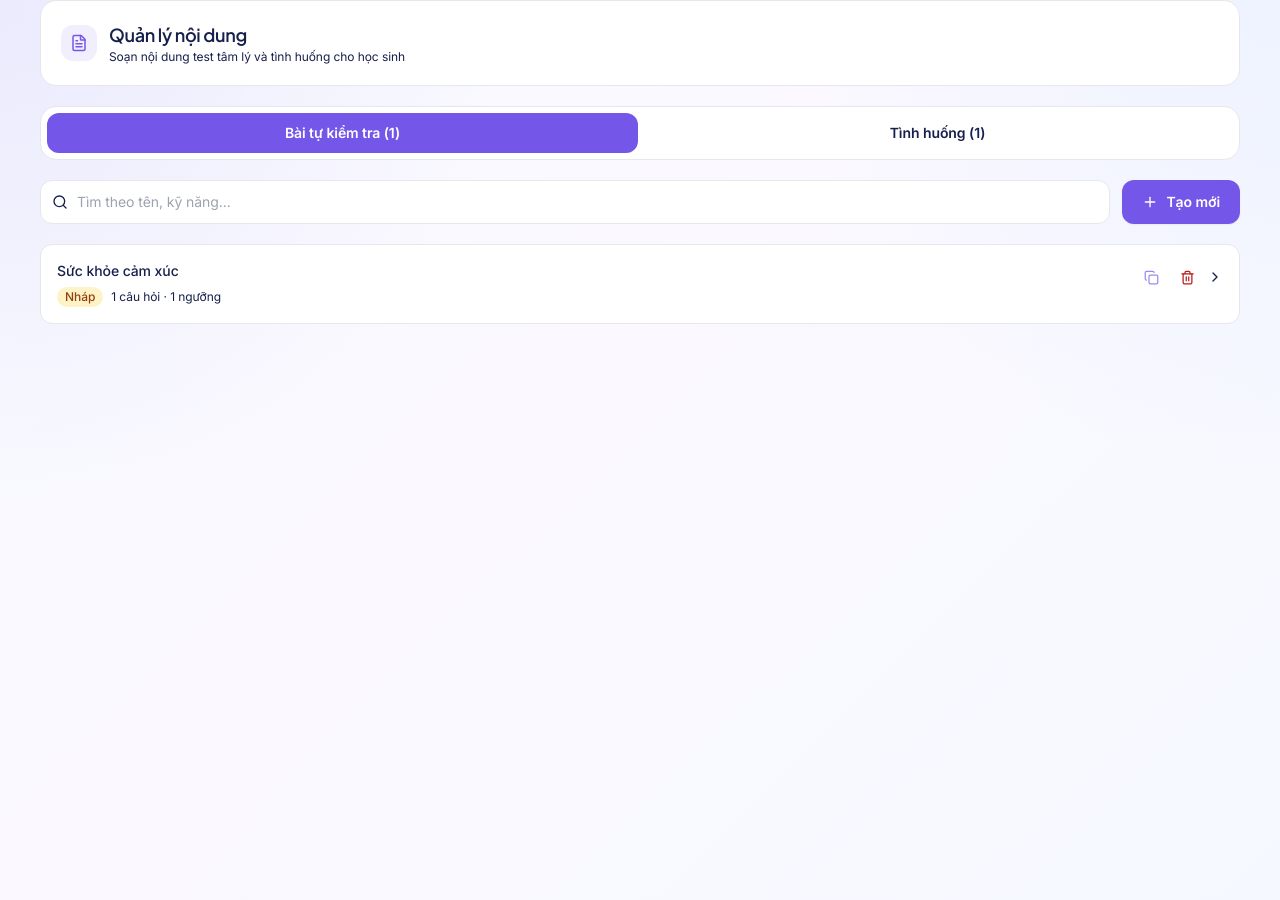
Test: admin content management UI › surfaces backend publish validation detail instead of generic failure copy
The width and height of the screenshot is (1280, 900).
Expected: the heading "Quản lý nội dung" is shown, x1=109 y1=23 x2=247 y2=46
Click the button "Sức khỏe cảm xúc Nháp 1 câu hỏi · 1 ngưỡng".
click(118, 270)  # box x1=40 y1=244 x2=1240 y2=324
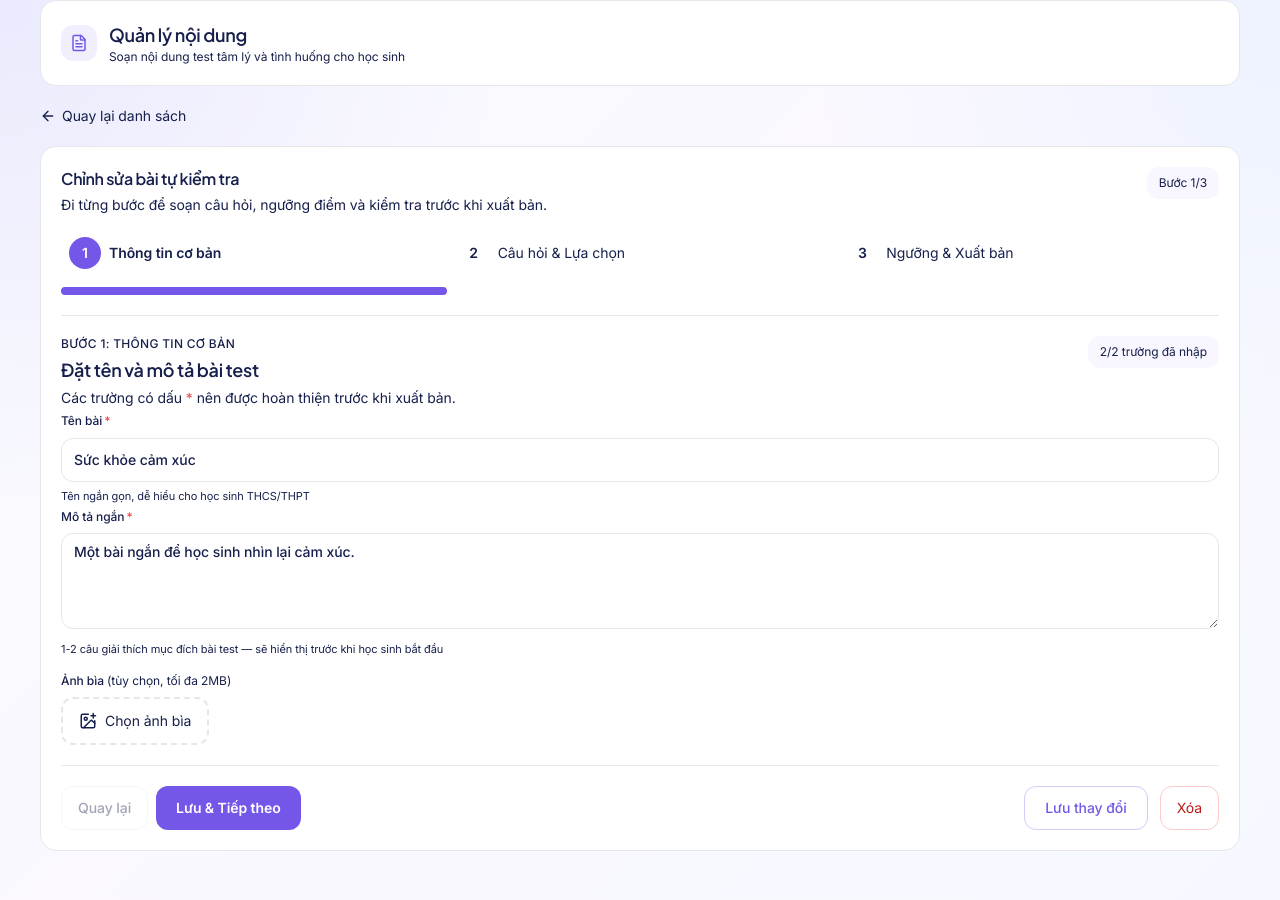
Click the button "3 Ngưỡng & Xuất bản".
click(950, 253)  # box x1=838 y1=231 x2=1219 y2=275
(page scrolled)
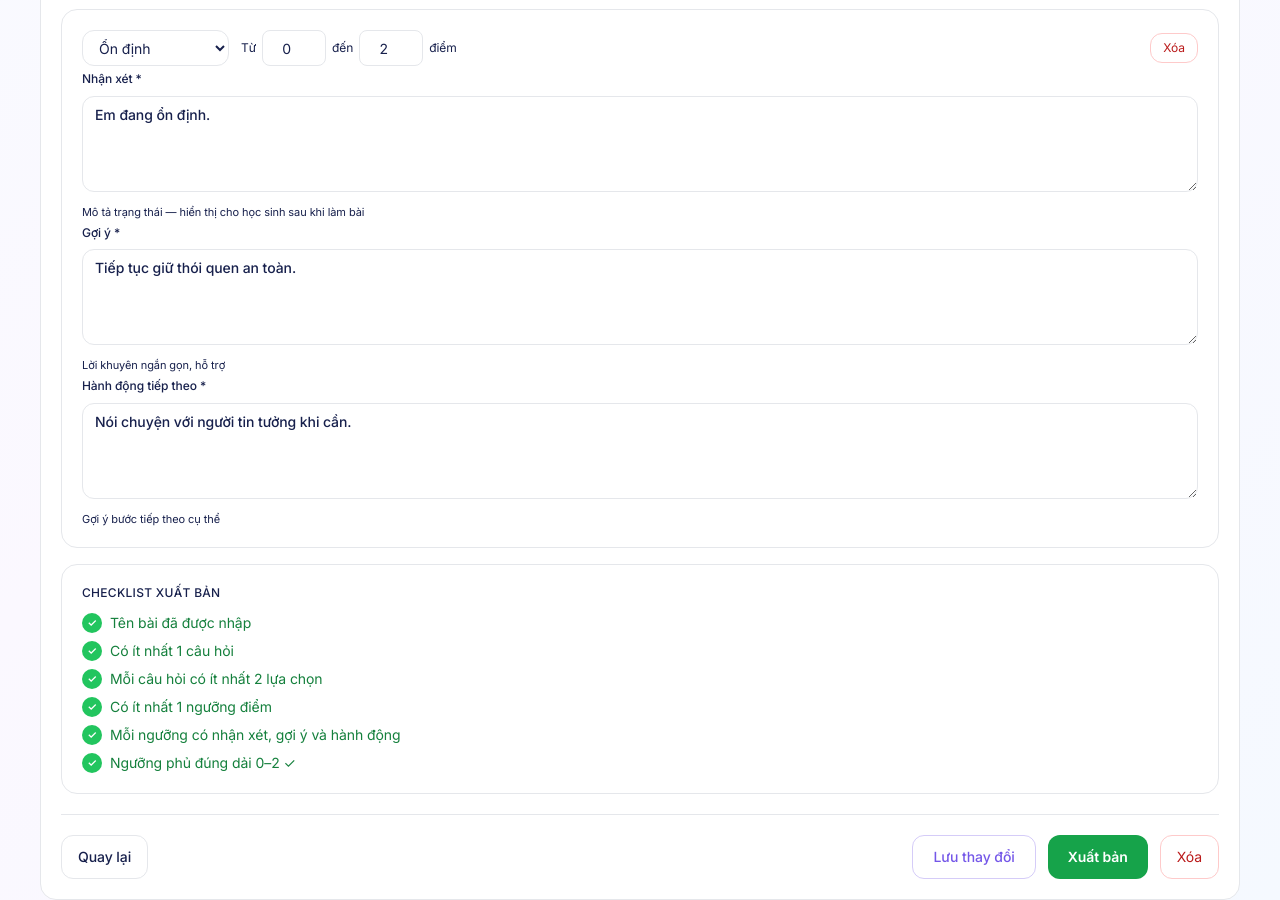
Click the button "Xuất bản".
click(1098, 857)  # box x1=1048 y1=835 x2=1148 y2=879
(page scrolled)
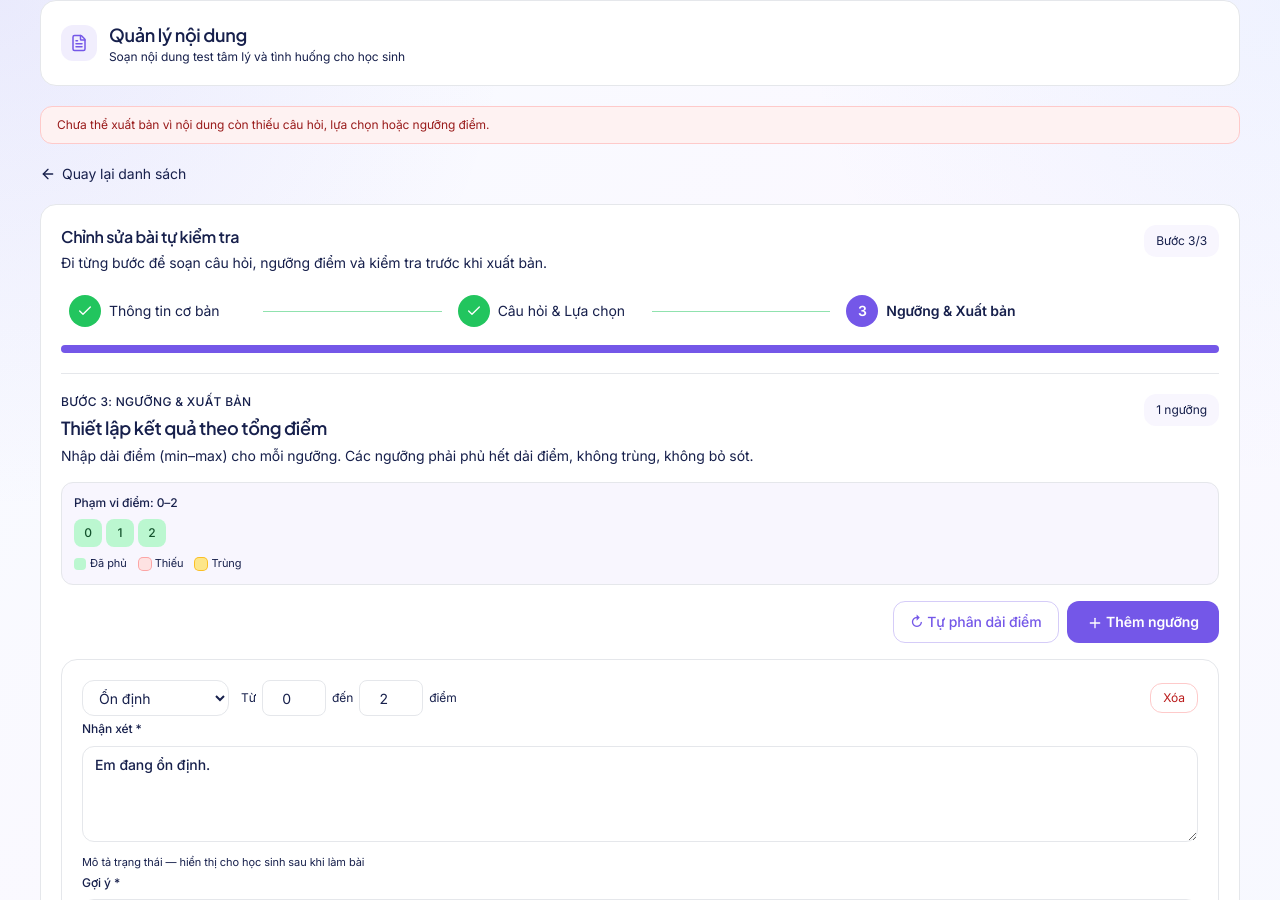
Now the text "Chưa thể xuất bản vì nội dung còn thiếu câu hỏi, lựa chọn hoặc ngưỡng điểm." is shown, box x1=40 y1=106 x2=1240 y2=144
